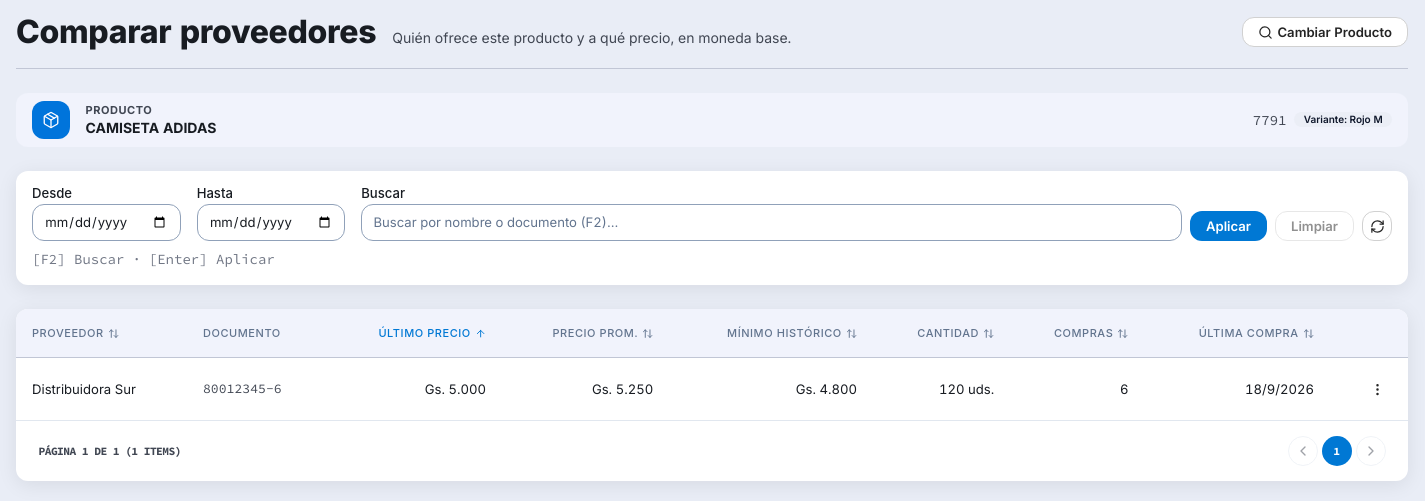
Test case: ProductSuppliersPage (F3) › cambiar de entidad limpia product_id/variant_id y vuelve al picker
Expected: the text "Distribuidora Sur" is shown, [16,358,187,420]
Step 1. Click the button "Cambiar Producto" → (1325,32), box [1242,17,1408,47]
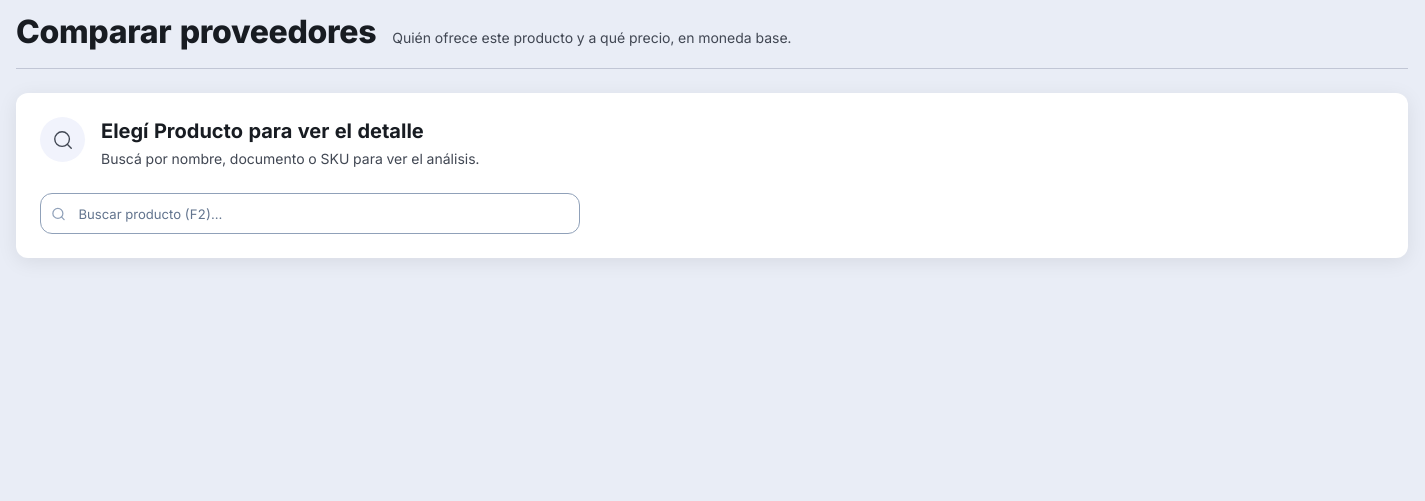
Expected: the heading "Elegí Producto para ver el detalle" is shown, [101,117,479,145]
